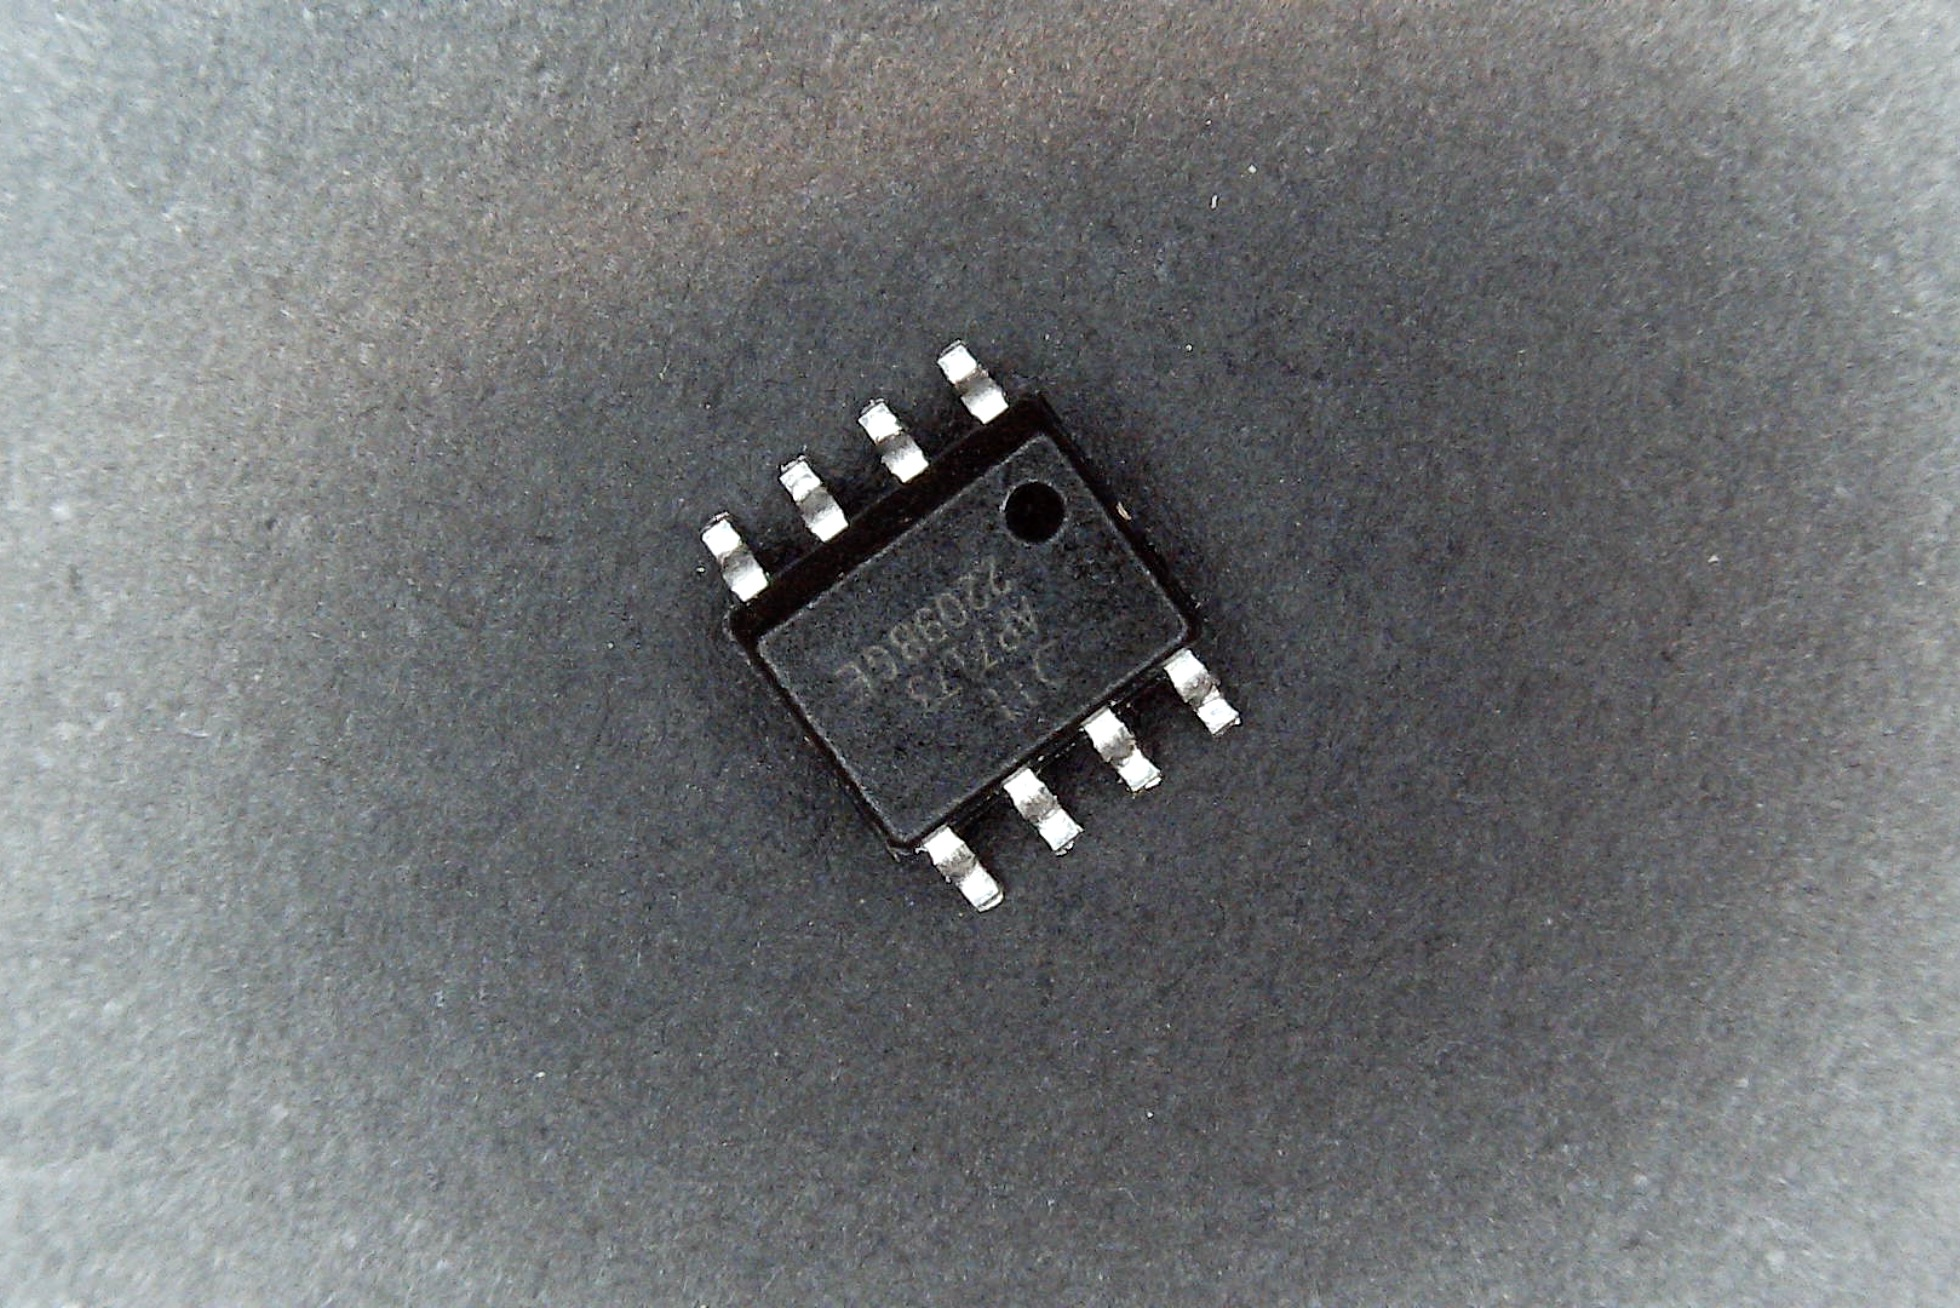bbox: (695, 328, 1241, 917)
